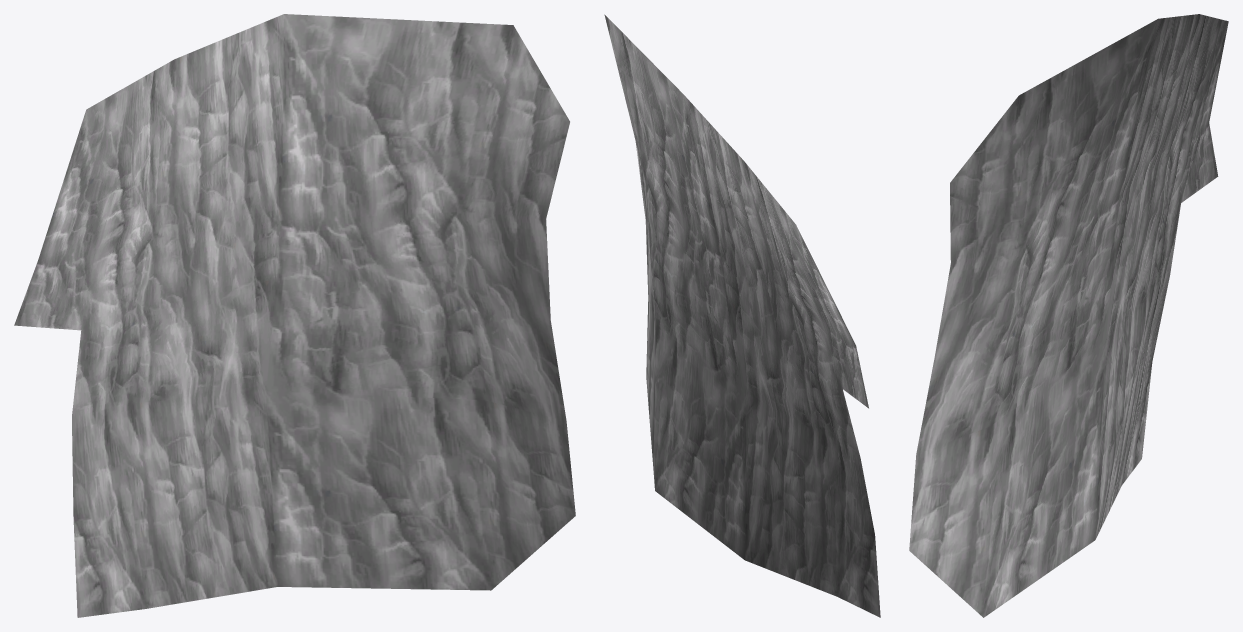
File: SWORDLIGHT20_PS-AREA03_79.fbx
The picture shows the model from 3 angles, left to right: view 1: azimuth 30°, elevation 25°; view 2: azimuth 150°, elevation 25°; view 3: azimuth 270°, elevation 25°; orthographic projection. The views are drawn at different scales.
Parts seen in each view (by area): view 1: SWORDLIGHT20_PS-AREA03_79; view 2: SWORDLIGHT20_PS-AREA03_79; view 3: SWORDLIGHT20_PS-AREA03_79.
Part boxes in pixels (x1,y1,x2,y2): SWORDLIGHT20_PS-AREA03_79: (14, 14, 575, 617); SWORDLIGHT20_PS-AREA03_79: (604, 14, 880, 617); SWORDLIGHT20_PS-AREA03_79: (909, 14, 1228, 617).
Bounding box in the file's own units: 106801 × 132293 × 70199.
Materials: 1 (1 with a texture image).
